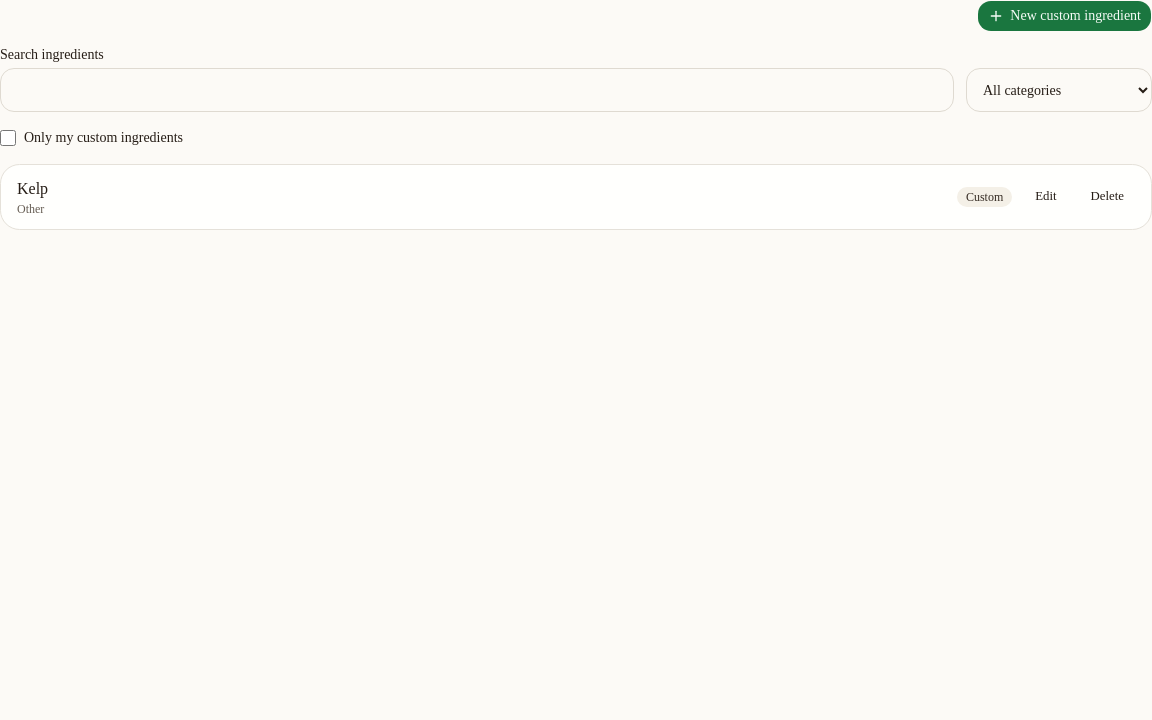
Test case: deleting › asks first, then deletes
Click the button with aria-label "Delete Kelp".
click(1107, 197)  # box [1080,183,1135,211]
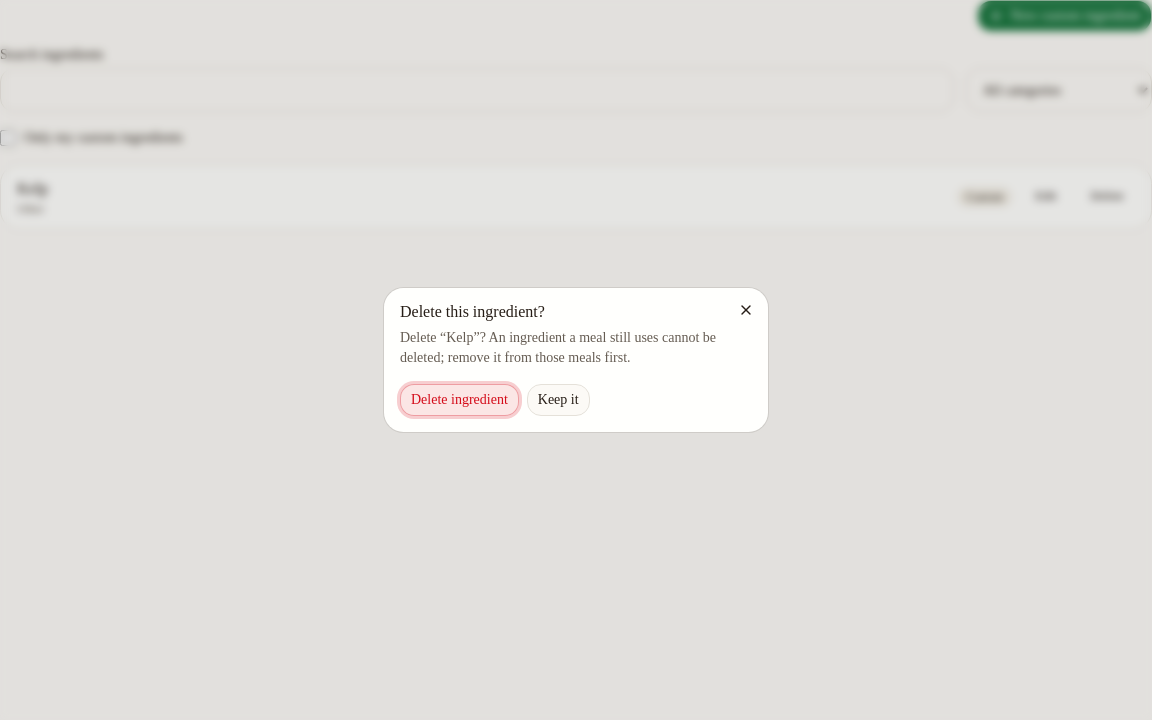
Check: the text "Delete “Kelp”?" is shown, box [400,328,752,368]
Click the button "Delete ingredient".
click(459, 400)  # box [400,384,519,416]
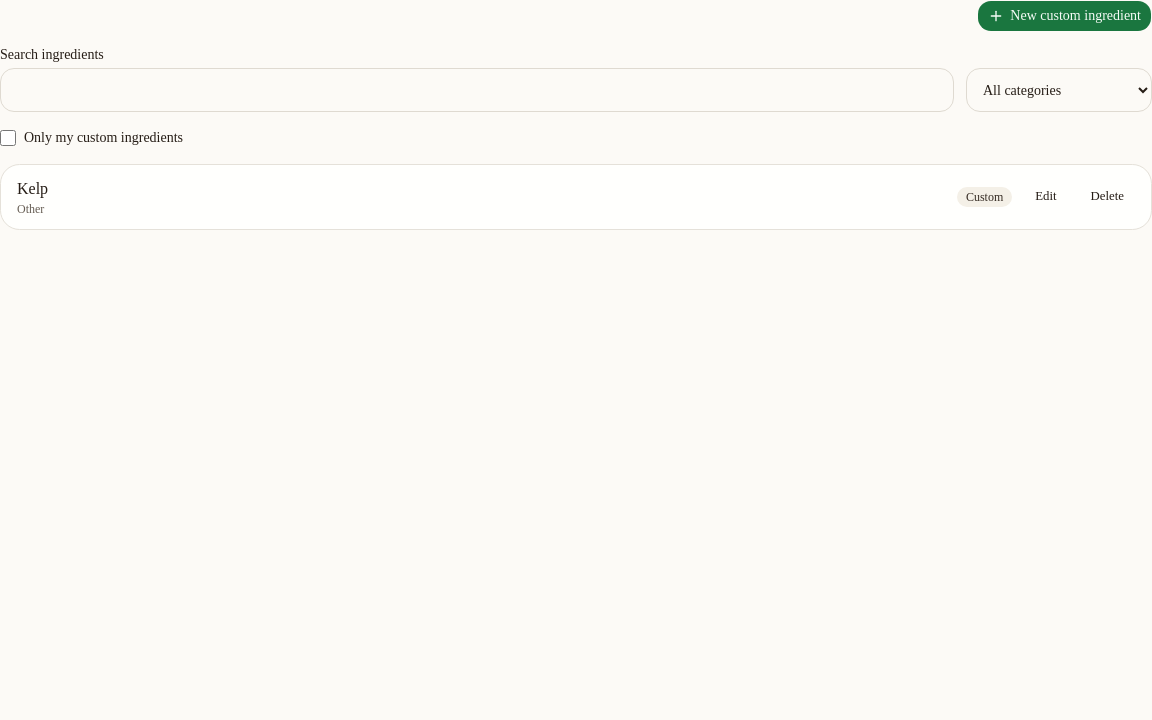
Check: the dialog is gone
